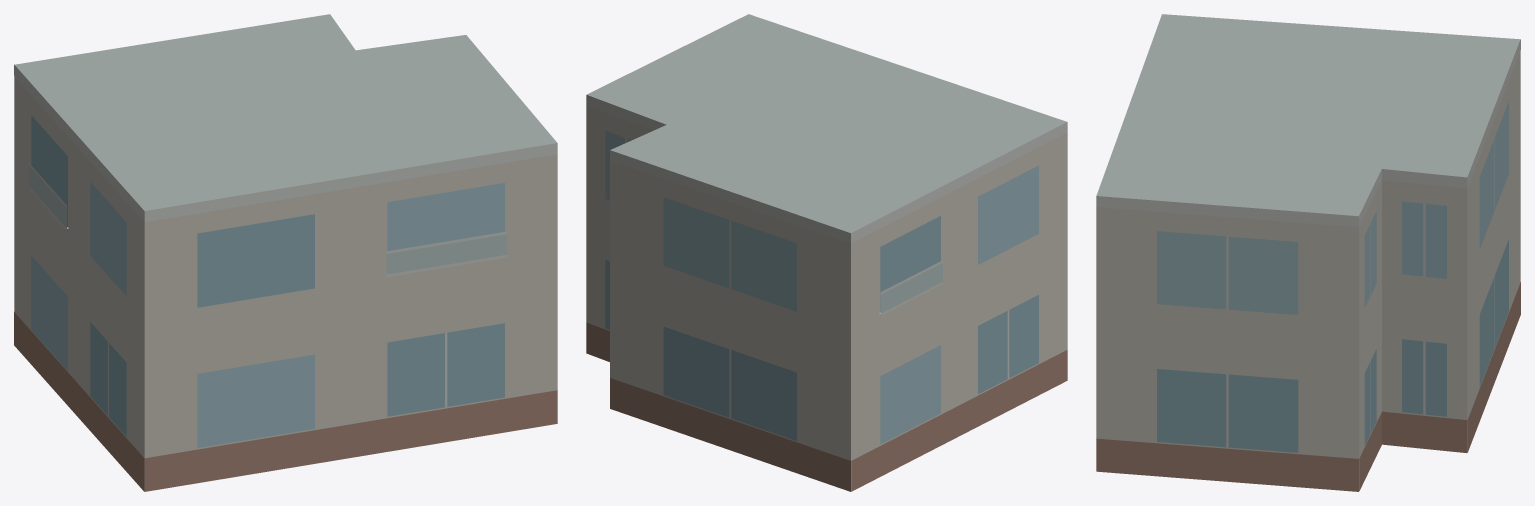
File: survey-upis-32654964.glb
3 views of the same model, side by side, from view 1: azimuth 30°, elevation 25°; view 2: azimuth 150°, elevation 25°; view 3: azimuth 270°, elevation 25° (orthographic). The views are drawn at different scales.
Visible parts, largest first — view 1: survey-upis-32654964.tmp; view 2: survey-upis-32654964.tmp; view 3: survey-upis-32654964.tmp.
Boxes of the visible parts, x1,y1,x2,y2 form: survey-upis-32654964.tmp: (14,14,557,491); survey-upis-32654964.tmp: (586,14,1067,491); survey-upis-32654964.tmp: (1096,14,1520,491).
Bounding box in the file's own units: 9.61 × 6.1 × 8.52.
